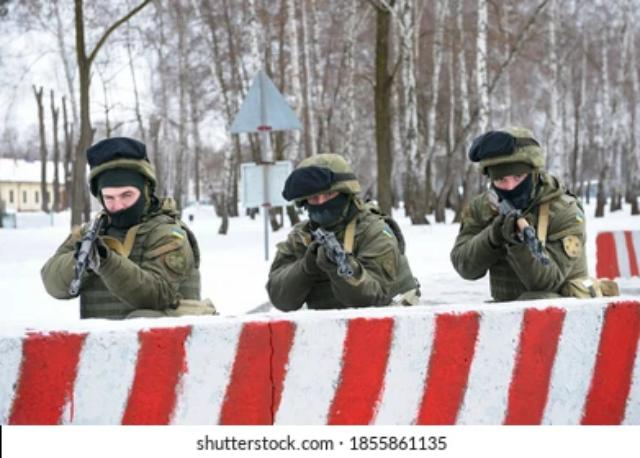other: (42, 136, 204, 310), (262, 154, 414, 298), (452, 127, 590, 283)
